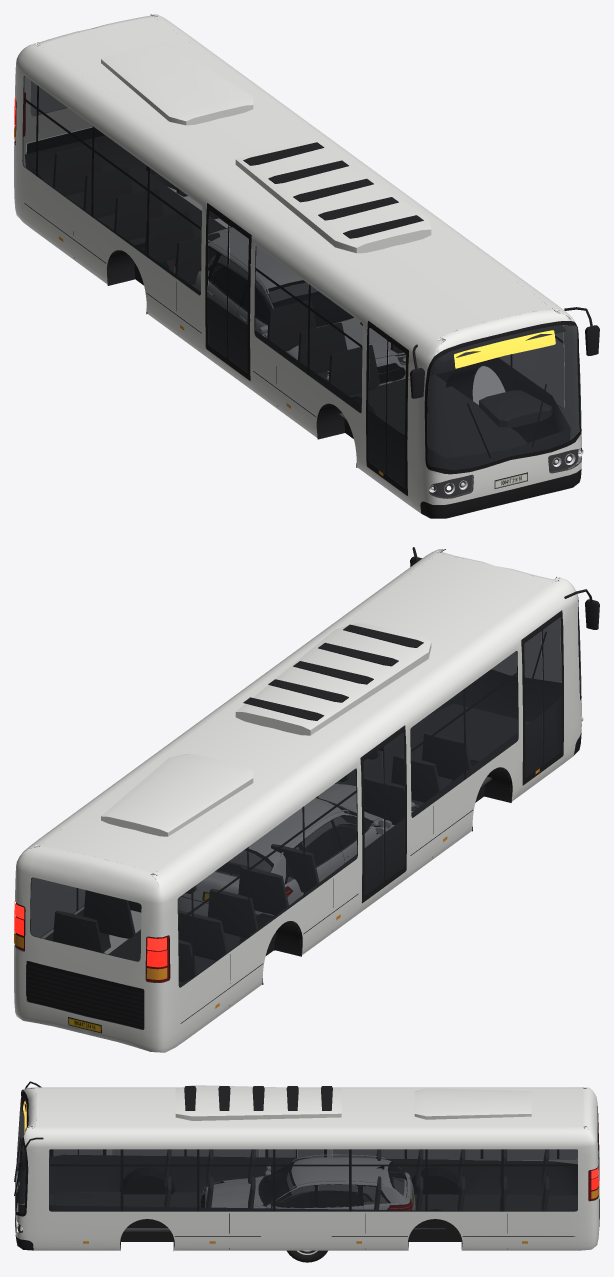
The model's file is cars.glb.
3 renders of one model, top to bottom at view 1: azimuth 30°, elevation 25°; view 2: azimuth 150°, elevation 25°; view 3: azimuth 270°, elevation 25°, orthographic. The views are drawn at different scales.
Parts seen in each view (by area): view 1: Bus, Crossover, Compact; view 2: Bus, Crossover, Compact; view 3: Bus, Crossover, Compact, BusWheel.
Boxes of the visible parts, <box> form: Bus: <box>14,14,599,518</box>; Crossover: <box>174,227,408,385</box>; Compact: <box>208,256,405,356</box>; Bus: <box>14,547,599,1052</box>; Crossover: <box>178,784,418,942</box>; Compact: <box>215,816,389,876</box>; Bus: <box>14,1081,599,1250</box>; Crossover: <box>200,1154,415,1209</box>; Compact: <box>265,1170,395,1204</box>; BusWheel: <box>287,1250,327,1262</box>.
Bounding box in the file's own units: 3.05 × 3.67 × 12.01.
20 materials, 2 textured.
